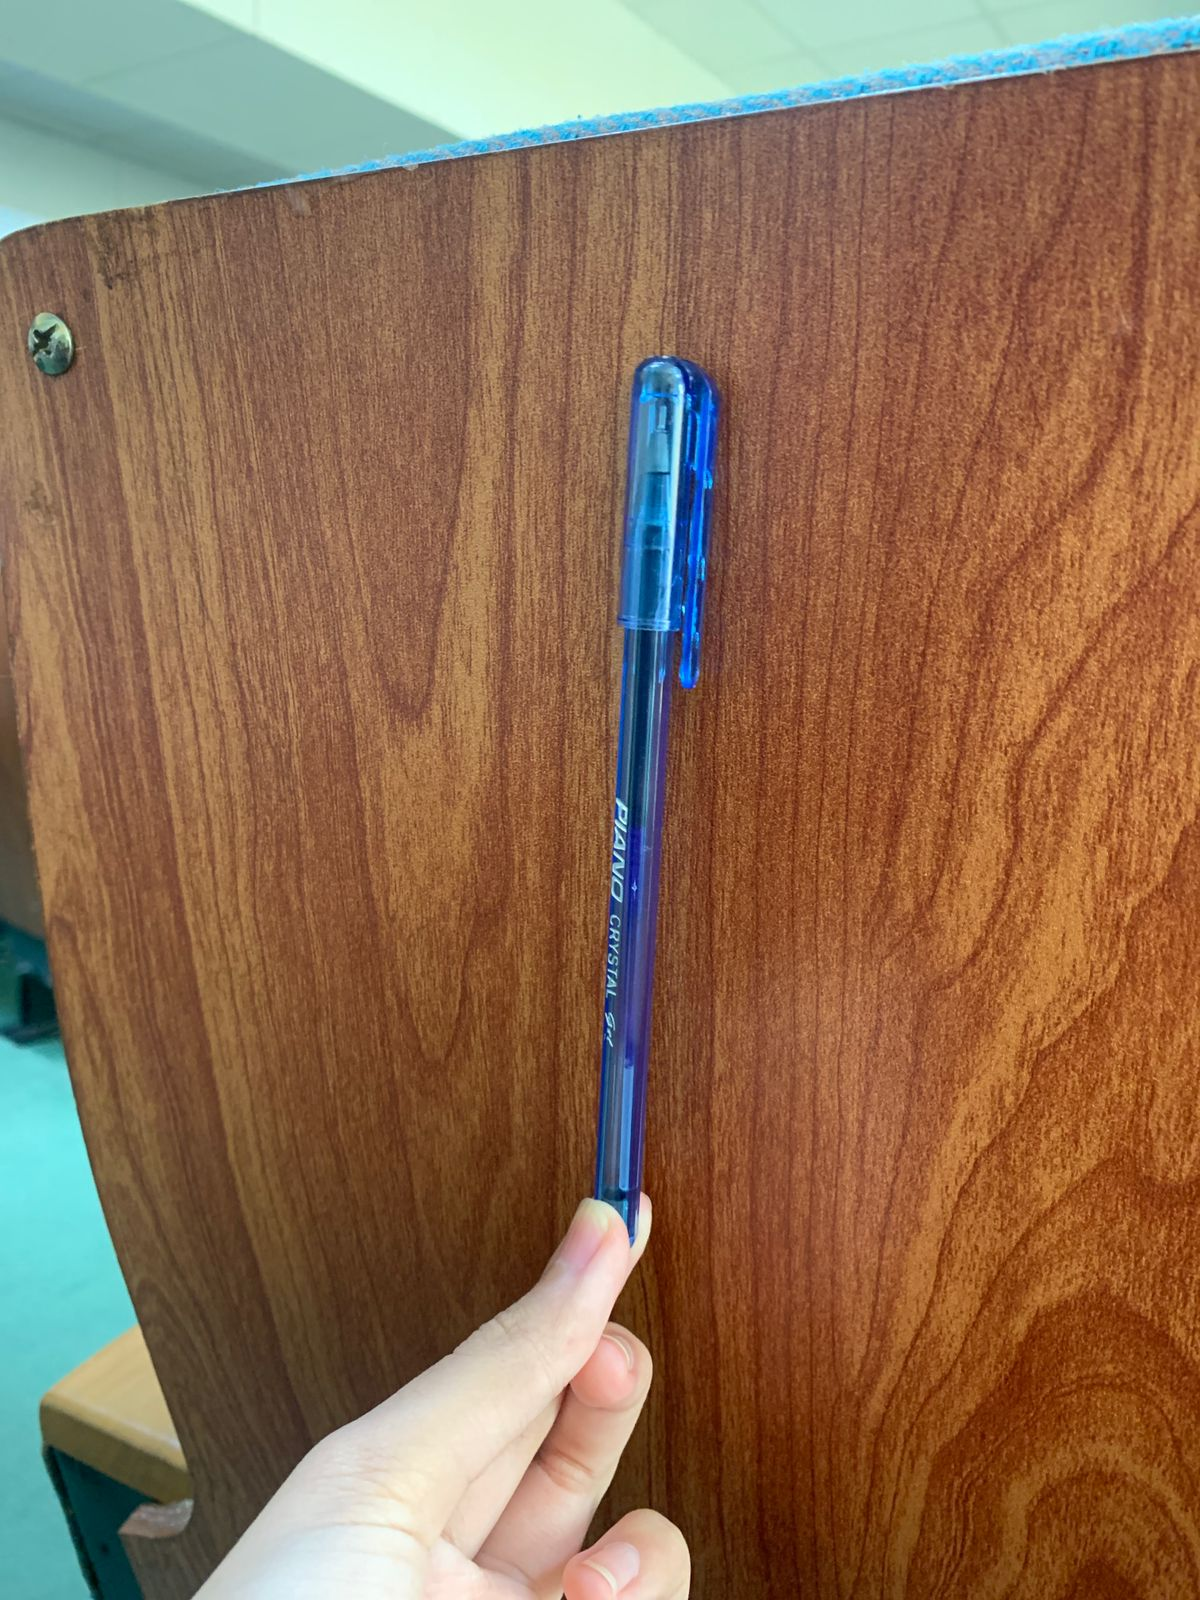pen: (444, 292, 860, 1402)
